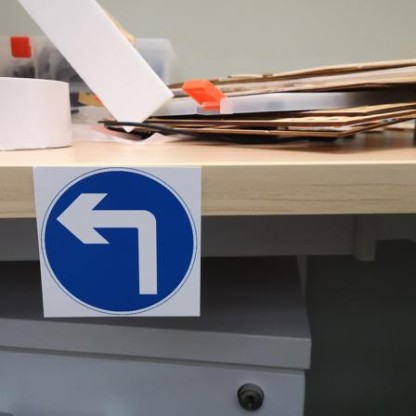left: (31, 157, 214, 330)
